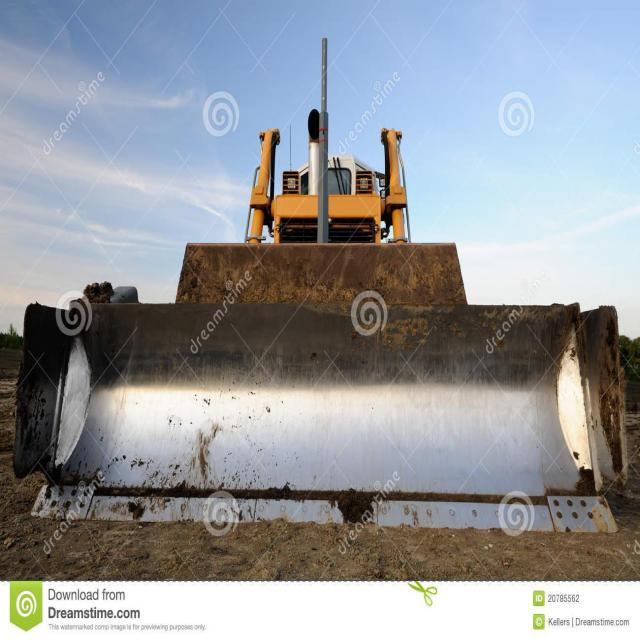Bulldozer: (20, 93, 640, 548)
